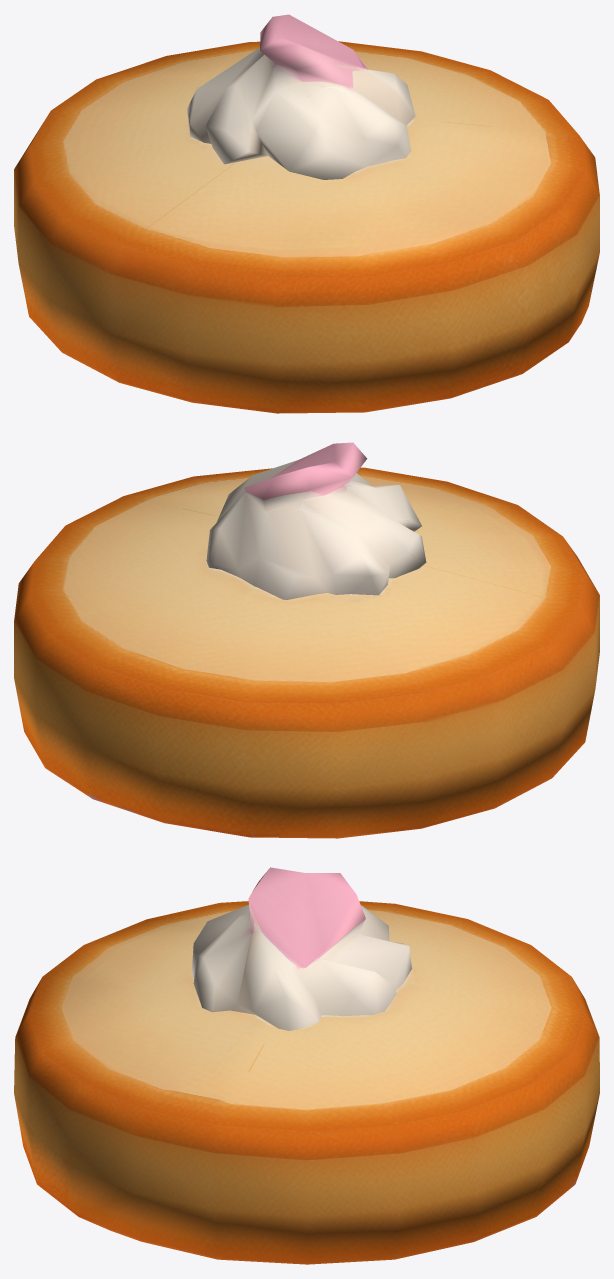
The model's file is source.fbx.
The picture shows the model from 3 angles, top to bottom: view 1: azimuth 30°, elevation 25°; view 2: azimuth 150°, elevation 25°; view 3: azimuth 270°, elevation 25°; orthographic projection.
Parts seen in each view (by area): view 1: Mesh_0; view 2: Mesh_0; view 3: Mesh_0.
Part boxes in pixels (box(x1,y1,x2,y2)): Mesh_0: box(14, 14, 599, 413); Mesh_0: box(14, 442, 599, 838); Mesh_0: box(14, 867, 599, 1264).
Bounding box in the file's own units: 35.76 × 18 × 35.85.
Materials: 1 (1 with a texture image).
